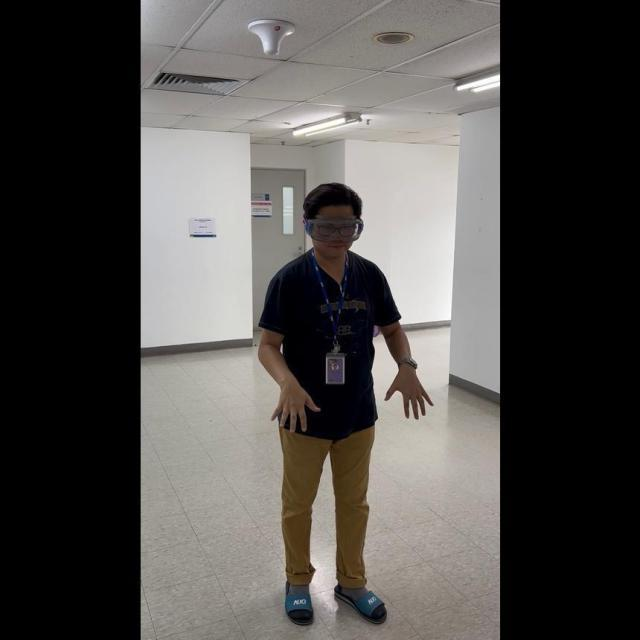bare_hand: (383, 360, 432, 421), (269, 375, 318, 431)
